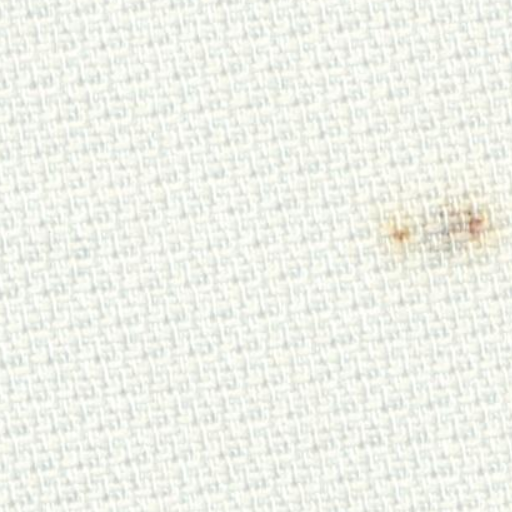WuZi: (366, 158, 497, 295)
